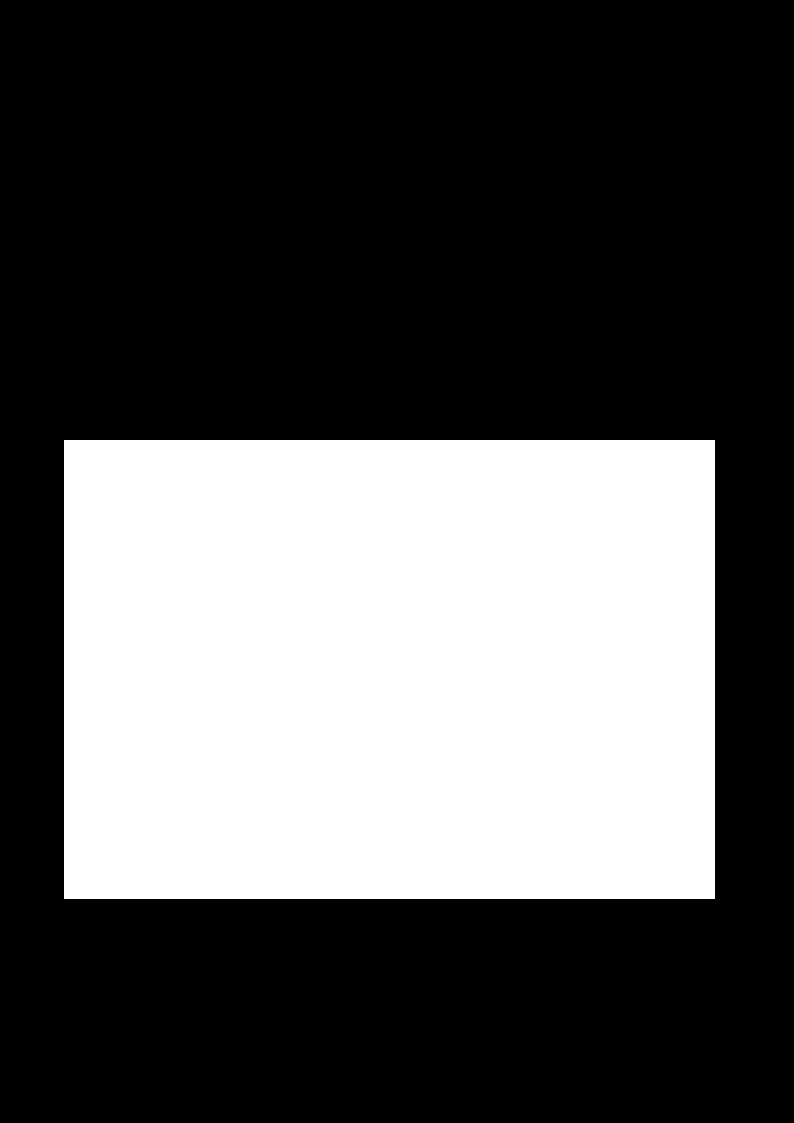table: (64, 440, 714, 898)
